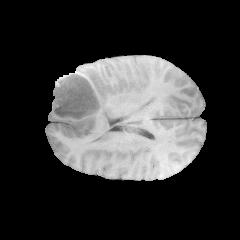glioma: (49, 68, 109, 139)
